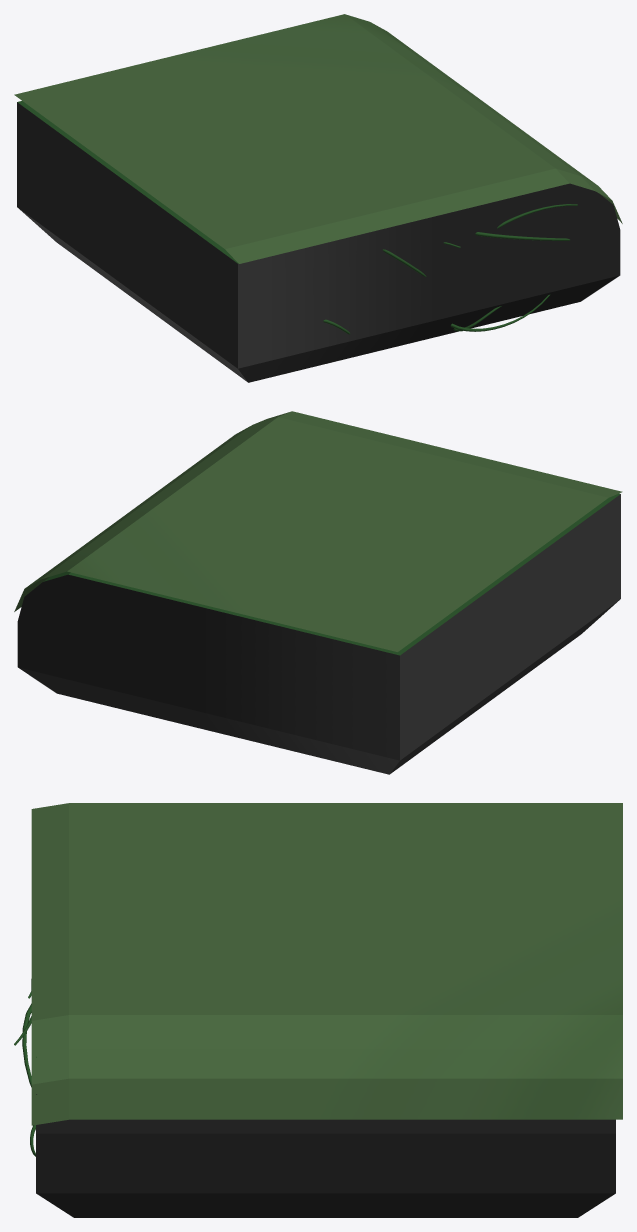
The model's file is rightface_platform.fbx.
3 views of the same model, one above another, from view 1: azimuth 30°, elevation 25°; view 2: azimuth 150°, elevation 25°; view 3: azimuth 270°, elevation 25° (orthographic). The views are drawn at different scales.
Parts seen in each view (by area): view 1: Cube.016; view 2: Cube.016; view 3: Cube.016.
Part boxes in pixels (x1,y1,x2,y2): Cube.016: [14, 14, 622, 382]; Cube.016: [14, 411, 622, 774]; Cube.016: [14, 803, 622, 1217].
Bounding box in the file's own units: 1055 × 371 × 1105.
